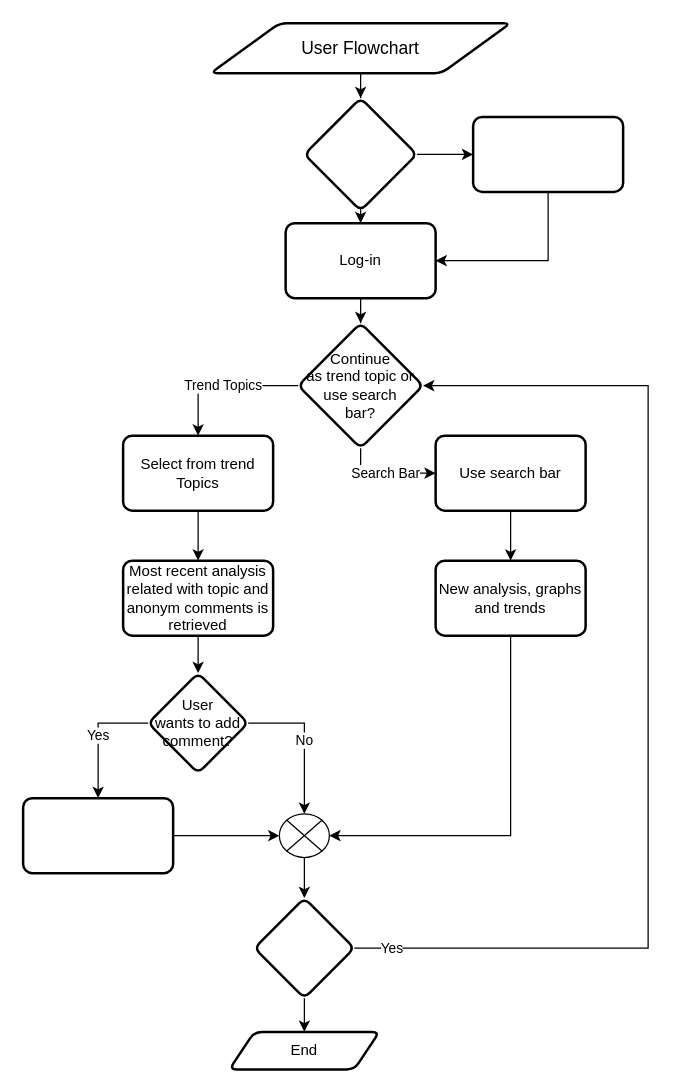
Some shapes in this 680 by 1091 pixel diagram are drawn without their labels. The shapes that lost their labels are listed below. From the top down, each one's box as (x1, y1, x2, y2) in pixels, then its label:
(302, 96, 418, 211): Does user have an account?
(471, 115, 624, 192): Sign-up
(21, 796, 174, 874): User Adds anonym comment
(252, 896, 355, 999): User wants to continue?
